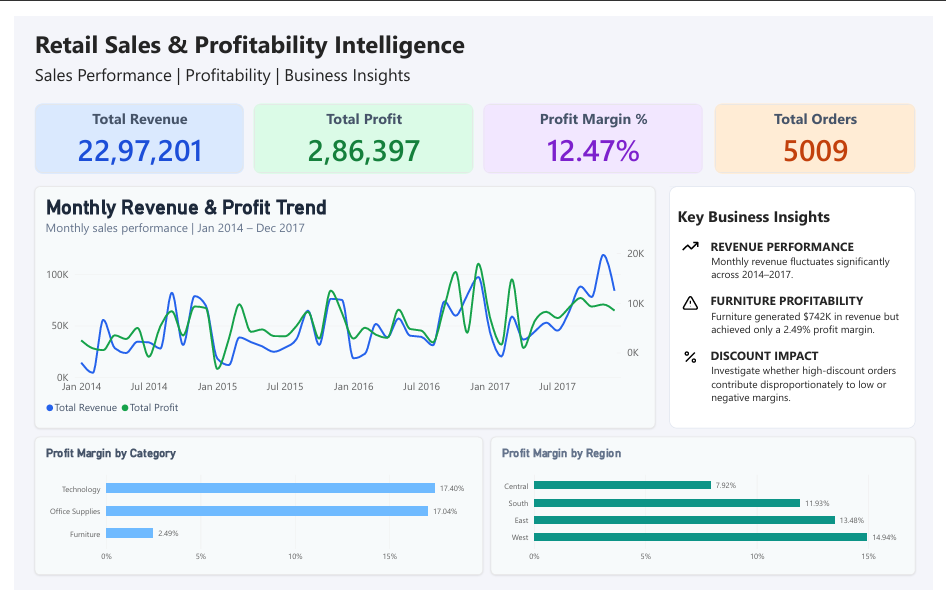

The page's visual inventory and layout, read from the dashboard file:
{"tool":"powerbi","page":{"name":"Page 1","canvas":[1440,900],"ordinal":0},"visuals":[{"type":"cardVisual","fields":{"Data":["public superstore_raw.Total Revenue"]},"box":[31.7,136.7,328.3,110],"z":0},{"type":"cardVisual","fields":{"Data":["public superstore_raw.Total Profit"]},"box":[375,136.7,345,110],"z":1000},{"type":"cardVisual","fields":{"Data":["public superstore_raw.Profit Margin %"]},"box":[735,136.7,345,110],"z":2000},{"type":"cardVisual","fields":{"Data":["public superstore_raw.Total Orders"]},"box":[1098.3,136.7,315,110],"z":3000},{"type":"lineChart","title":"Monthly Revenue & Profit Trend","fields":{"Category":["public superstore_raw.Sales Month"],"Y":["public superstore_raw.Total Revenue"],"Y2":["public superstore_raw.Total Profit"]},"box":[31.7,266.7,973.3,380],"z":4000},{"type":"textbox","box":[31.7,16.7,841.7,68.3],"z":5000},{"type":"textbox","box":[31.7,73.3,1161.7,100],"z":6000},{"type":"shape","box":[1026.7,266.7,386.7,380],"z":7000},{"type":"textbox","box":[1040,296.7,355,363.3],"z":8000},{"type":"image","box":[1040,346.7,40,28.3],"z":9000},{"type":"image","box":[1040,436.7,40,26.7],"z":10000},{"type":"image","box":[1040,523.3,40,23.3],"z":11000},{"type":"clusteredBarChart","title":"Profit Margin by Category","fields":{"Category":["public superstore_raw.category"],"Y":["public superstore_raw.Profit Margin %"]},"box":[31.7,660,703.3,216.7],"z":12000},{"type":"clusteredBarChart","title":"Profit Margin by Region","fields":{"Category":["public superstore_raw.region"],"Y":["public superstore_raw.Profit Margin %"]},"box":[746.7,660,666.7,216.7],"z":13000}]}

Visuals, with their boxes in screenshot pixels (x1, y1, x2, y2), scaled from the page's 1440x900 canvas onto the 946x601 screenshot:
cardVisual - public superstore_raw.Total Revenue: x1=21, y1=91, x2=236, y2=165
cardVisual - public superstore_raw.Total Profit: x1=246, y1=91, x2=473, y2=165
cardVisual - public superstore_raw.Profit Margin %: x1=483, y1=91, x2=710, y2=165
cardVisual - public superstore_raw.Total Orders: x1=722, y1=91, x2=928, y2=165
"Monthly Revenue & Profit Trend" lineChart: x1=21, y1=178, x2=660, y2=432
textbox: x1=21, y1=11, x2=574, y2=57
textbox: x1=21, y1=49, x2=784, y2=116
shape: x1=674, y1=178, x2=929, y2=432
textbox: x1=683, y1=198, x2=916, y2=441
image: x1=683, y1=232, x2=710, y2=250
image: x1=683, y1=292, x2=710, y2=309
image: x1=683, y1=349, x2=710, y2=365
"Profit Margin by Category" clusteredBarChart: x1=21, y1=441, x2=483, y2=585
"Profit Margin by Region" clusteredBarChart: x1=491, y1=441, x2=929, y2=585
